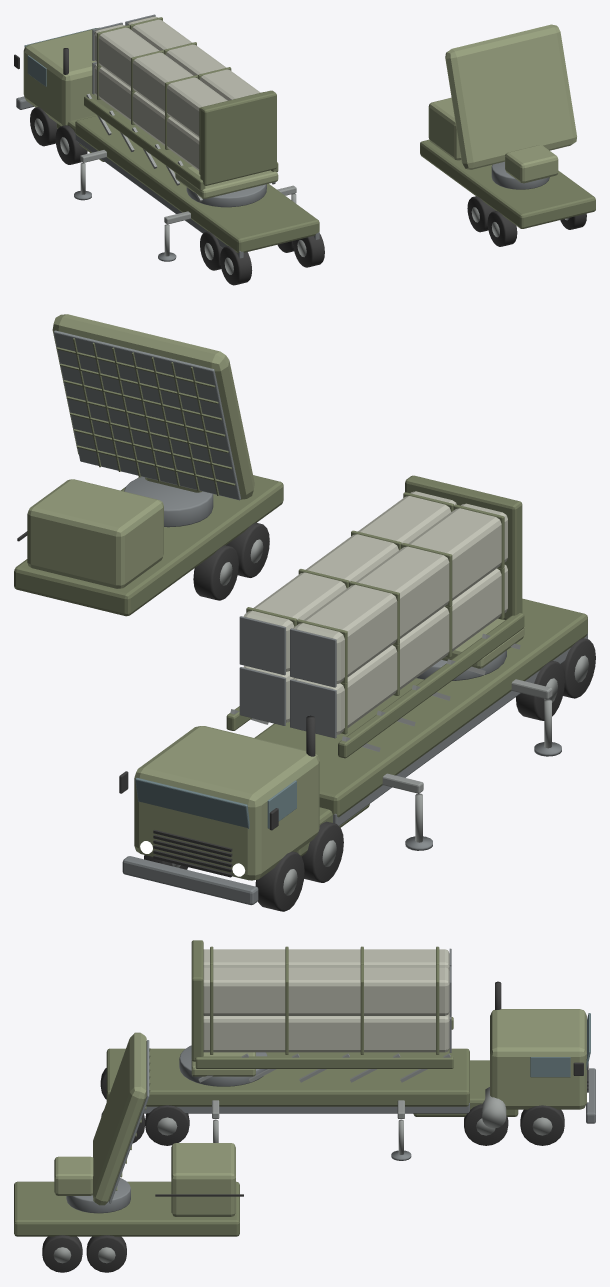
Rendered from sys_patriot.glb.
The picture shows the model from 3 angles, top to bottom: view 1: azimuth 30°, elevation 25°; view 2: azimuth 150°, elevation 25°; view 3: azimuth 270°, elevation 25°; orthographic projection. The views are drawn at different scales.
Visible parts, largest first — view 1: Cube.067, Cube.014, Cube.058, Cube.046, Cube.059, Cube, Cube.034, Cube.052, Cube.022, Cube.066, Cube.060, Cube.021 (+11 smaller); view 2: Cube, Cube.068, Cube.014, Cube.046, Cube.060, Cube.059, Cube.034, Cube.052, Cube.067, Cube.022, Cube.058, Cube.010 (+15 smaller); view 3: Cube.014, Cube.052, Cube.040, Cube, Cube.059, Cube.067, Cube.060, Cube.046, Cube.028, Cube.016, Cube.066, Cube.058 (+13 smaller).
Boxes of the visible parts, left/top/right/bottom form: Cube.067: left=445, top=24, right=576, bottom=169; Cube.014: left=75, top=111, right=319, bottom=252; Cube.058: left=200, top=90, right=276, bottom=185; Cube.046: left=94, top=24, right=227, bottom=137; Cube.059: left=420, top=139, right=595, bottom=228; Cube: left=23, top=27, right=115, bottom=126; Cube.034: left=94, top=63, right=199, bottom=170; Cube.052: left=127, top=16, right=260, bottom=100; Cube.022: left=84, top=96, right=205, bottom=190; Cube.066: left=505, top=145, right=558, bottom=183; Cube.060: left=428, top=97, right=461, bottom=160; Cube.021: left=175, top=166, right=278, bottom=198; Cube: left=134, top=726, right=319, bottom=880; Cube.068: left=53, top=330, right=240, bottom=500; Cube.014: left=254, top=598, right=587, bottom=817; Cube.046: left=294, top=503, right=507, bottom=683; Cube.060: left=27, top=479, right=163, bottom=588; Cube.059: left=14, top=475, right=283, bottom=616; Cube.034: left=294, top=565, right=507, bottom=734; Cube.052: left=243, top=491, right=456, bottom=671; Cube.067: left=52, top=314, right=254, bottom=499; Cube.022: left=338, top=613, right=524, bottom=758; Cube.058: left=405, top=475, right=522, bottom=619; Cube.010: left=122, top=856, right=258, bottom=905; Cube.014: left=106, top=1048, right=469, bottom=1106; Cube.052: left=203, top=967, right=449, bottom=1015; Cube.040: left=203, top=1012, right=449, bottom=1052; Cube: left=490, top=1009, right=586, bottom=1109; Cube.059: left=14, top=1181, right=239, bottom=1236; Cube.067: left=93, top=1032, right=146, bottom=1205; Cube.060: left=171, top=1143, right=235, bottom=1216; Cube.046: left=203, top=949, right=449, bottom=970; Cube.028: left=195, top=1056, right=453, bottom=1068; Cube.016: left=143, top=1103, right=469, bottom=1113; Cube.066: left=54, top=1156, right=93, bottom=1195; Cube.058: left=191, top=940, right=203, bottom=1061.
Size of what is drawn, in the model's own units: 11.55 by 5.23 by 14.42.
